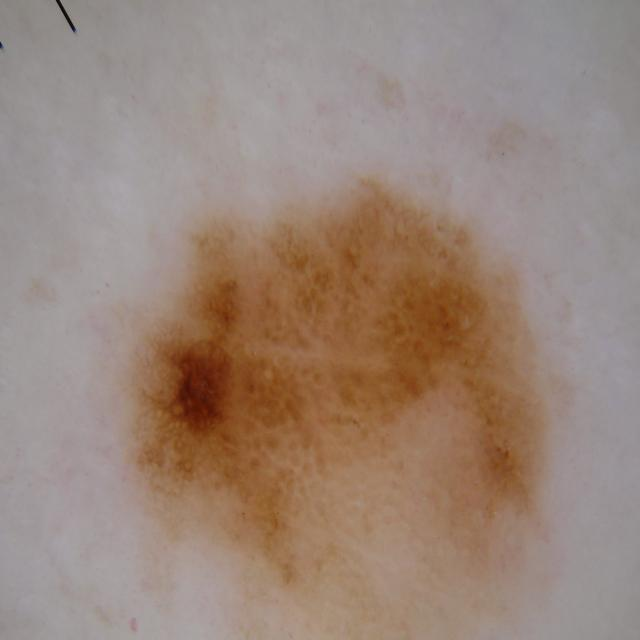Melanoma: (110, 154, 577, 599)
